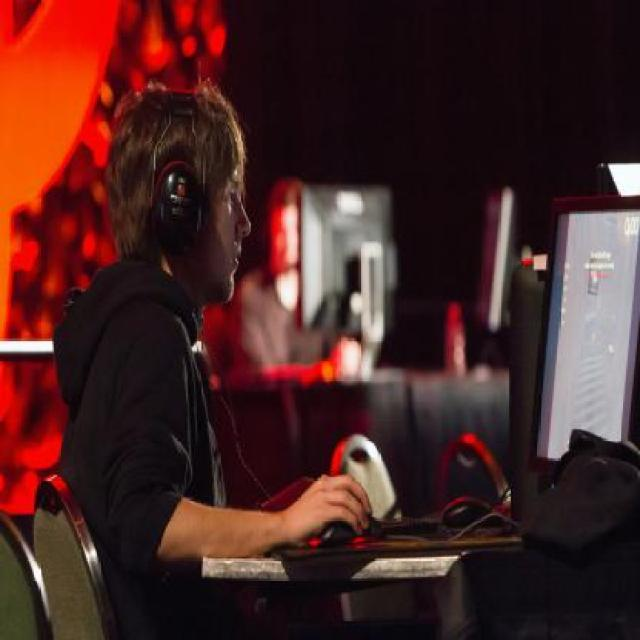earphone: (148, 83, 240, 265)
laptop_computer: (523, 164, 640, 466)
mouse: (304, 485, 388, 565)
